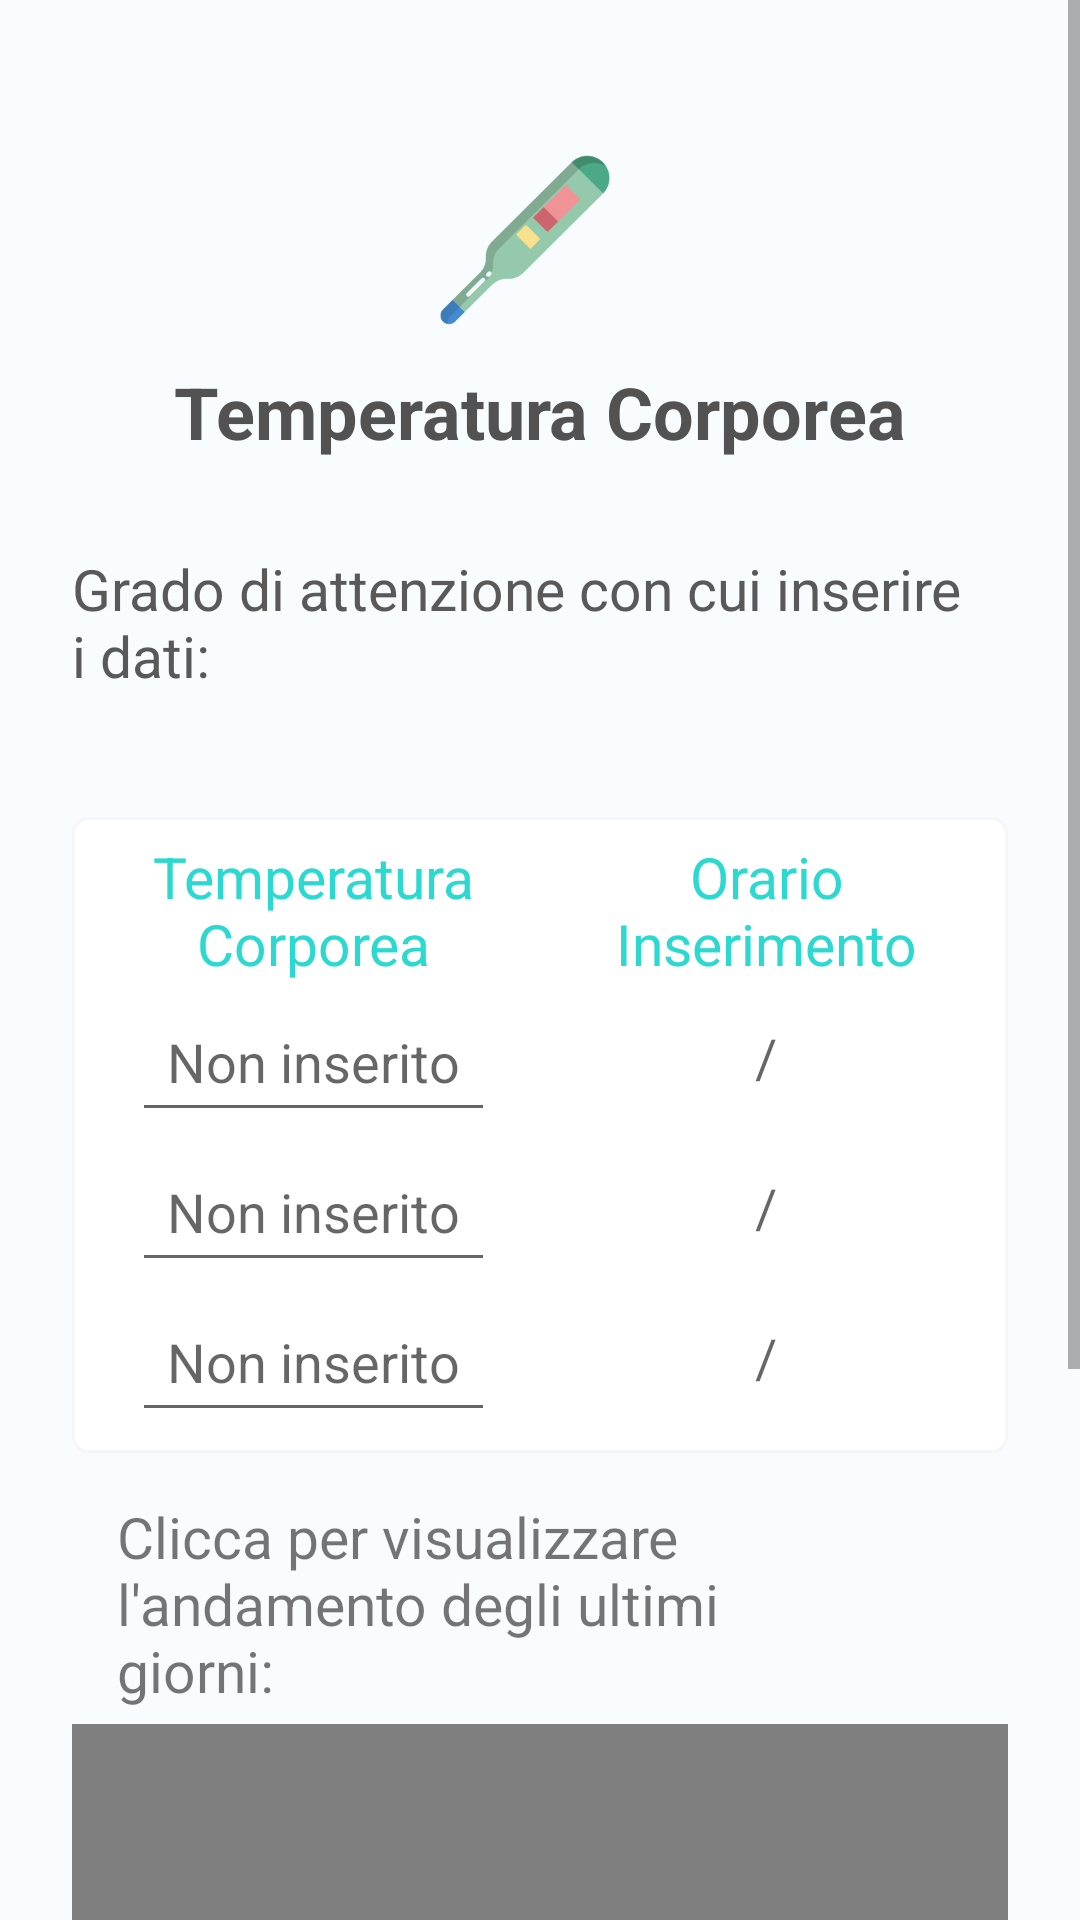

Point at icon controls on the screen. Image size 1080w x 1920h, points as (x,y).
thermometer: (525,240)
